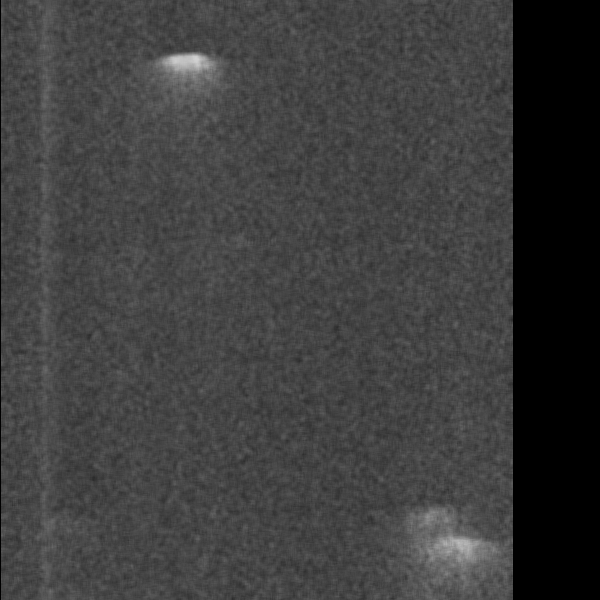spark: (91, 104, 161, 182), (12, 129, 75, 190)
